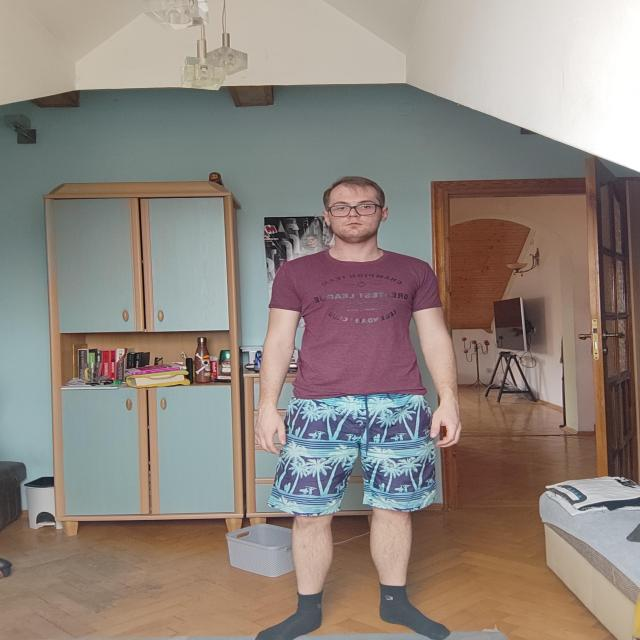Tshirt: (267, 249, 444, 400)
short: (268, 388, 439, 517)
